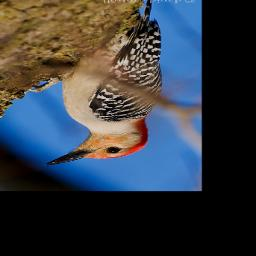Woodpecker: (44, 0, 162, 167)
